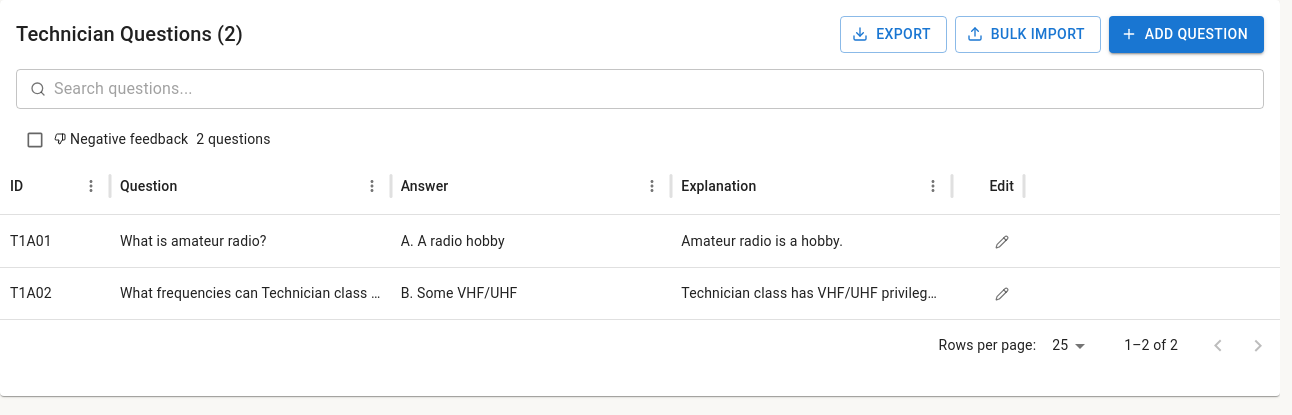
Test case: AdminQuestions › Search Functionality › should filter questions by question text
Check: the text "T1A01" is shown, box [10,232,52,248]
Type "frequencies" into the field with placeholder "Search questions..." at (659, 88), box [54,68,1264,108]
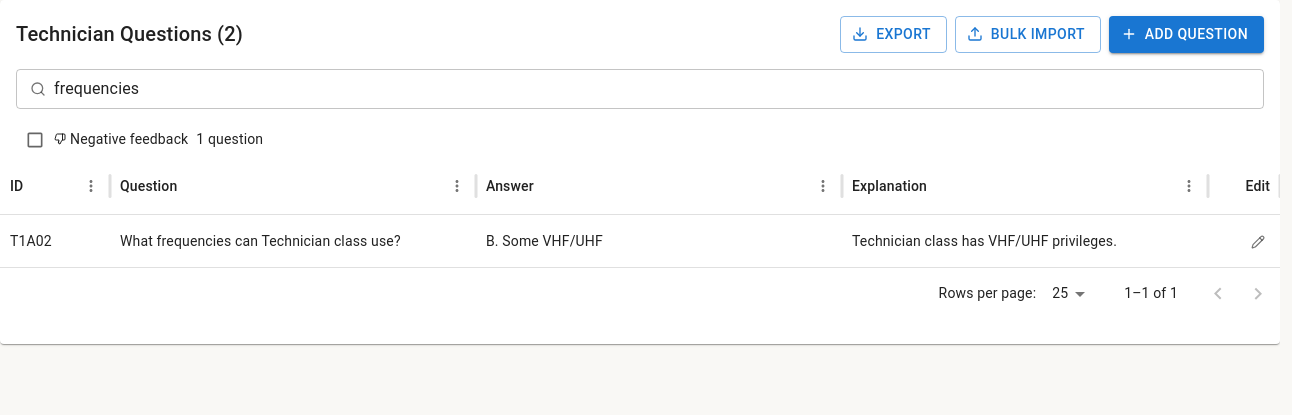
Check: the text "T1A02" is shown, box [10,232,52,248]
Check: the text "T1A01" is gone
